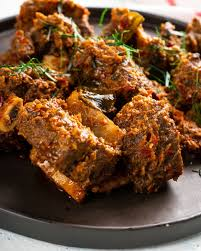rendang: (3, 2, 200, 206)
